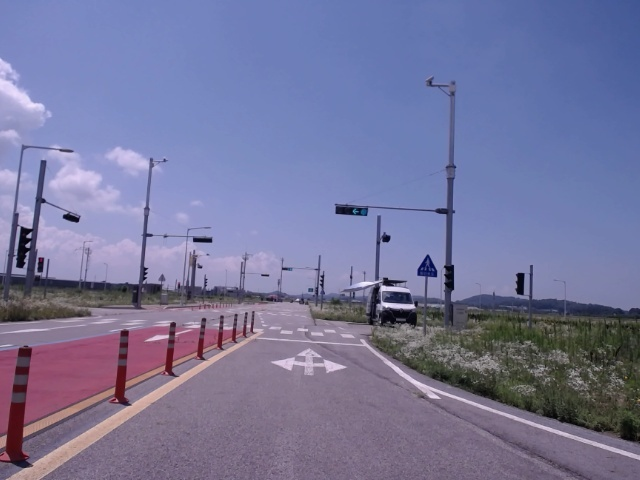all_green_4: (335, 203, 373, 216)
